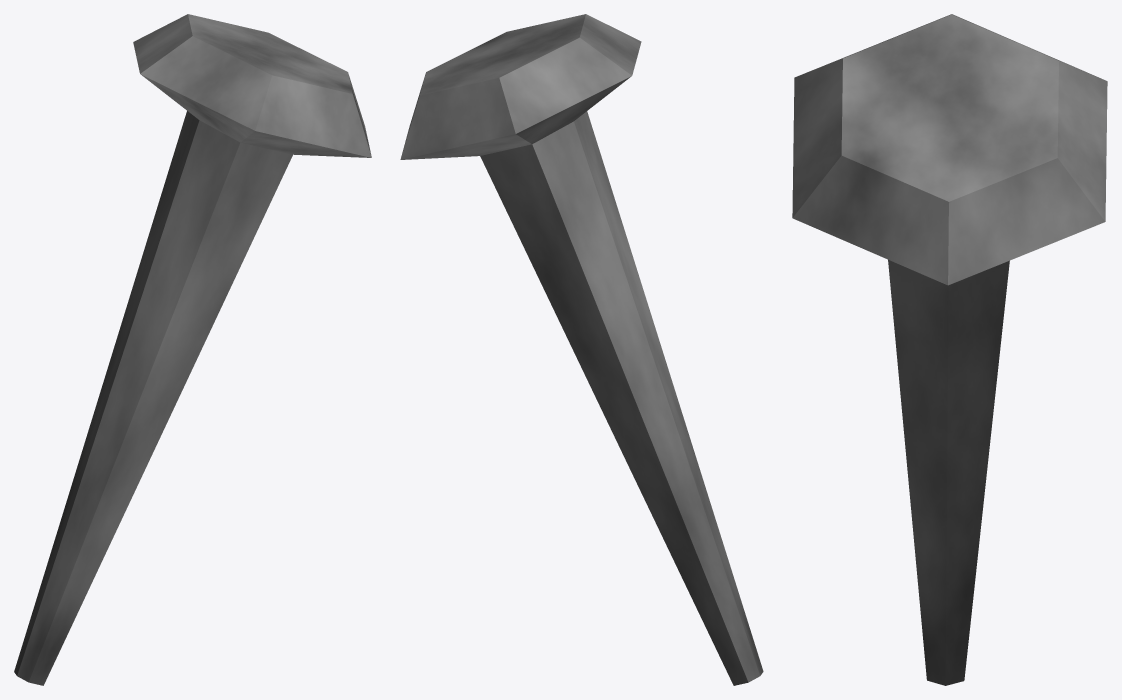
File: nail.fbx
The picture shows the model from 3 angles, left to right: view 1: azimuth 30°, elevation 25°; view 2: azimuth 150°, elevation 25°; view 3: azimuth 270°, elevation 25°; orthographic projection. The views are drawn at different scales.
Parts seen in each view (by area): view 1: nail.bak; view 2: nail.bak; view 3: nail.bak.
Part boxes in pixels (x1,y1,x2,y2): nail.bak: (14,14,371,685); nail.bak: (400,14,763,685); nail.bak: (792,14,1107,685).
Size of the model in its own units: 70.3 by 117 by 43.48.
1 material, 1 textured.
